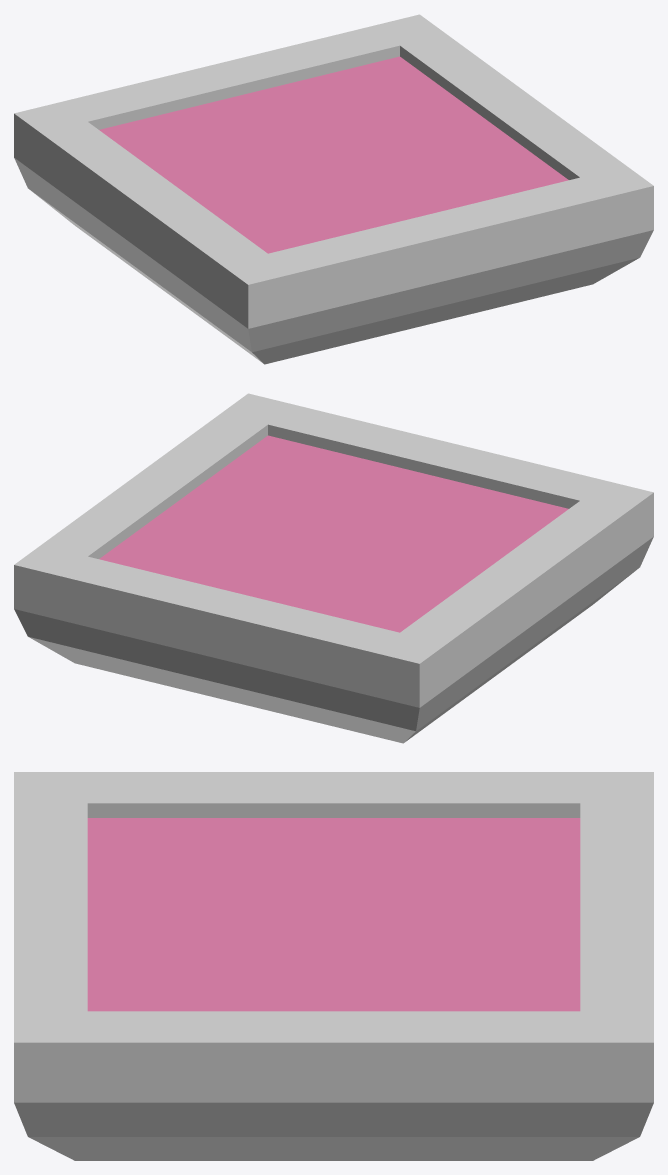
Rendered from Block.fbx.
3 views of the same model, one above another, from view 1: azimuth 30°, elevation 25°; view 2: azimuth 150°, elevation 25°; view 3: azimuth 270°, elevation 25° (orthographic). The views are drawn at different scales.
Visible parts, largest first — view 1: Cube; view 2: Cube; view 3: Cube.
Boxes of the visible parts, <box> form: Cube: <box>14,14,653,364</box>; Cube: <box>14,393,653,743</box>; Cube: <box>14,772,653,1160</box>.
Size of the model in its own units: 200 by 200 by 49.63.
